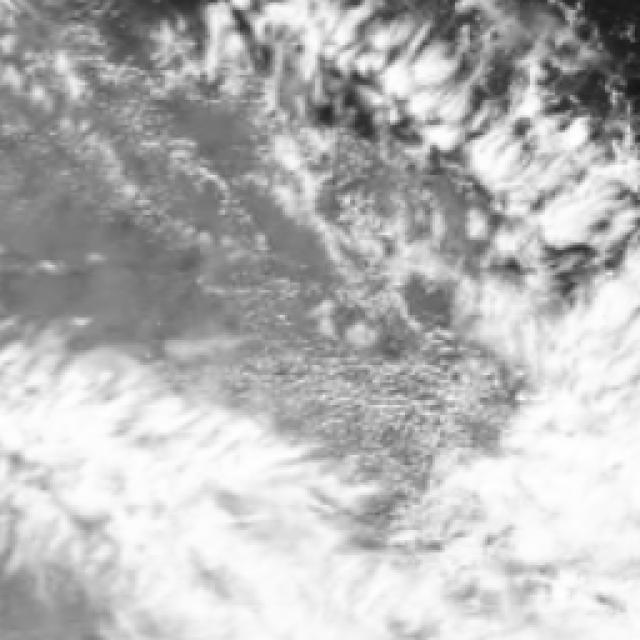CB: (106, 462, 309, 640), (18, 404, 226, 560), (529, 345, 640, 585)
